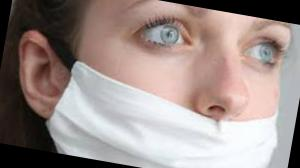mask_weared_incorrect: (83, 1, 299, 168)
